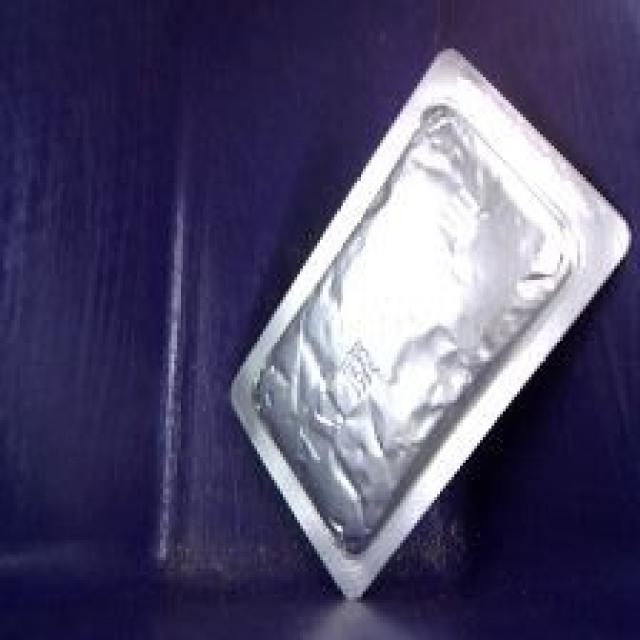med_plate: (221, 42, 638, 610)
